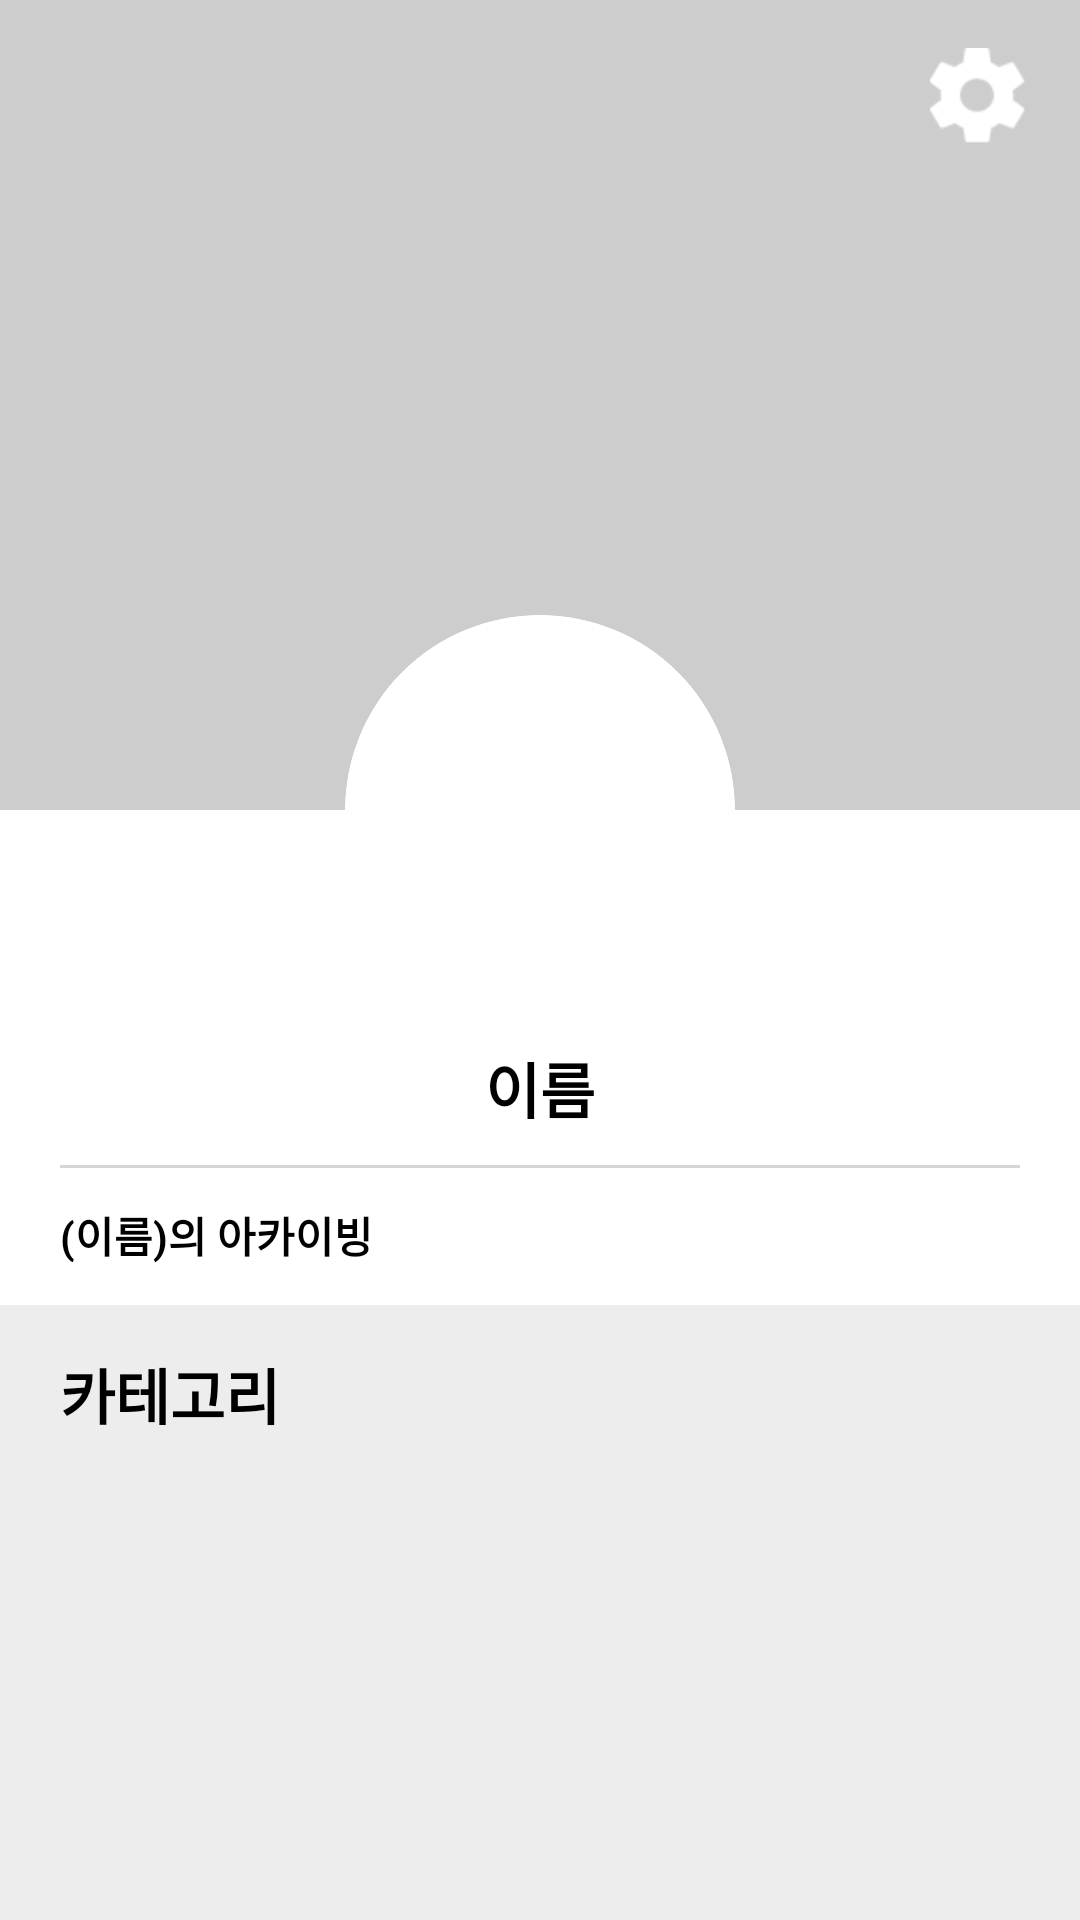

Screen size 1080x1920. Icon name, then its box in pixels as (x1, y1, x2, y2):
settings: (930, 48, 1024, 142)
